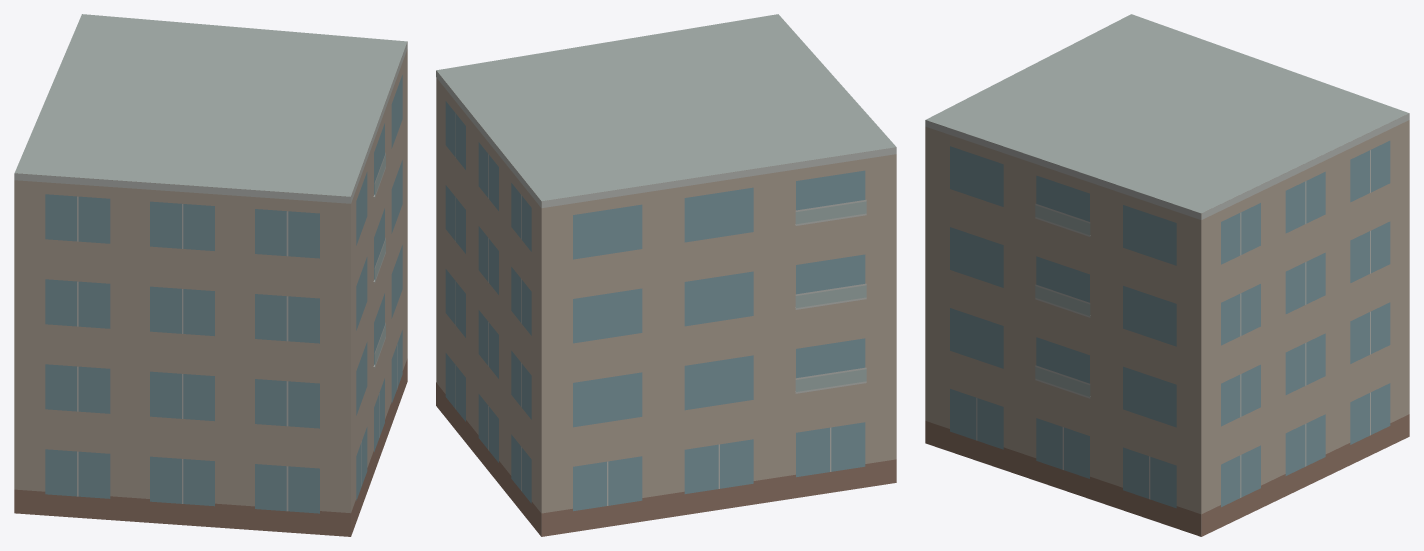
The model's file is survey-upis-32743313.glb.
3 views of the same model, side by side, from view 1: azimuth 30°, elevation 25°; view 2: azimuth 150°, elevation 25°; view 3: azimuth 270°, elevation 25° (orthographic). The views are drawn at different scales.
Visible parts, largest first — view 1: survey-upis-32743313.tmp; view 2: survey-upis-32743313.tmp; view 3: survey-upis-32743313.tmp.
Boxes of the visible parts, x1=… form: survey-upis-32743313.tmp: x1=14, y1=14, x2=407, y2=536; survey-upis-32743313.tmp: x1=436, y1=14, x2=896, y2=536; survey-upis-32743313.tmp: x1=925, y1=14, x2=1409, y2=536.
Bounding box in the file's own units: 15.62 × 11.8 × 16.01.
